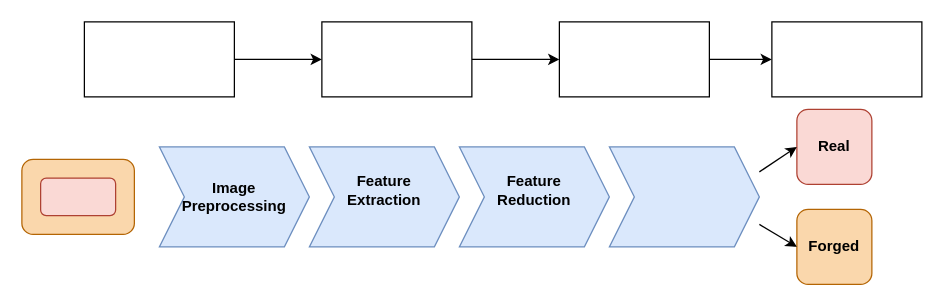
Image size: 944x306. Some labels were removed from this diagram. The shapes that lost their labels are listed below. From the top down, each one's centre as x and y in pixels, then its label:
pixel 77 196: Images
pixel 683 196: Classifier
